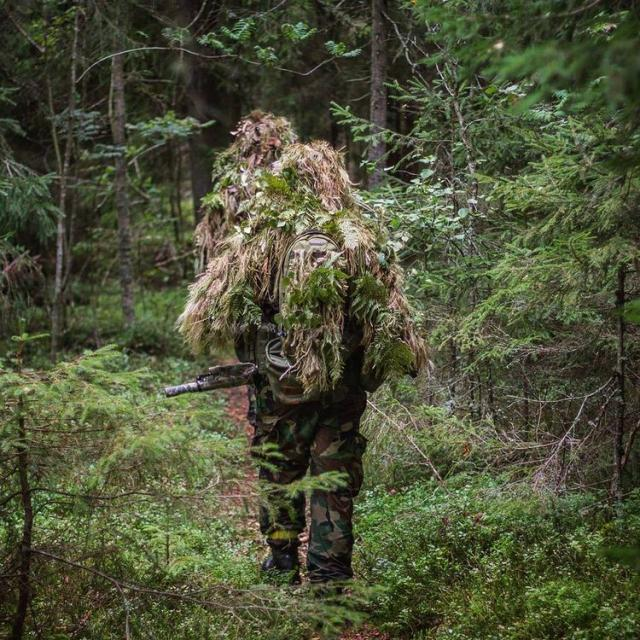Human: (165, 112, 423, 597)
